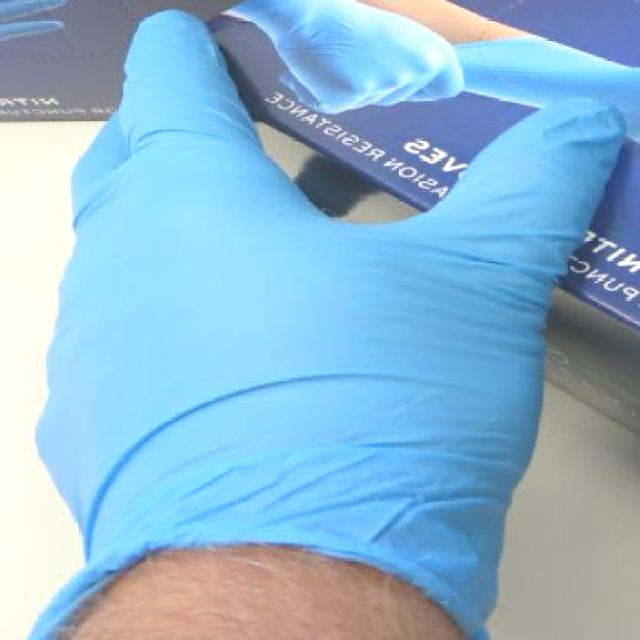glove: (2, 10, 640, 639)
